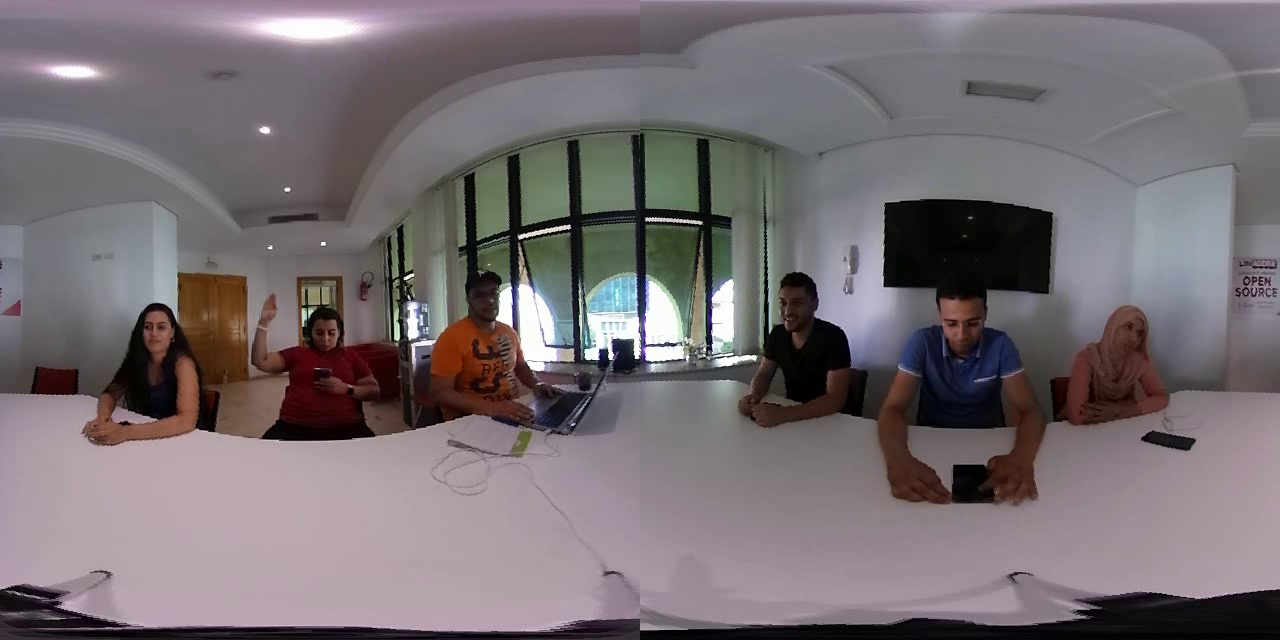person: (868, 270, 1051, 510), (226, 270, 396, 446), (421, 259, 573, 432), (80, 299, 216, 461), (728, 260, 855, 432), (1062, 301, 1181, 429)
voting: (238, 283, 294, 379)
